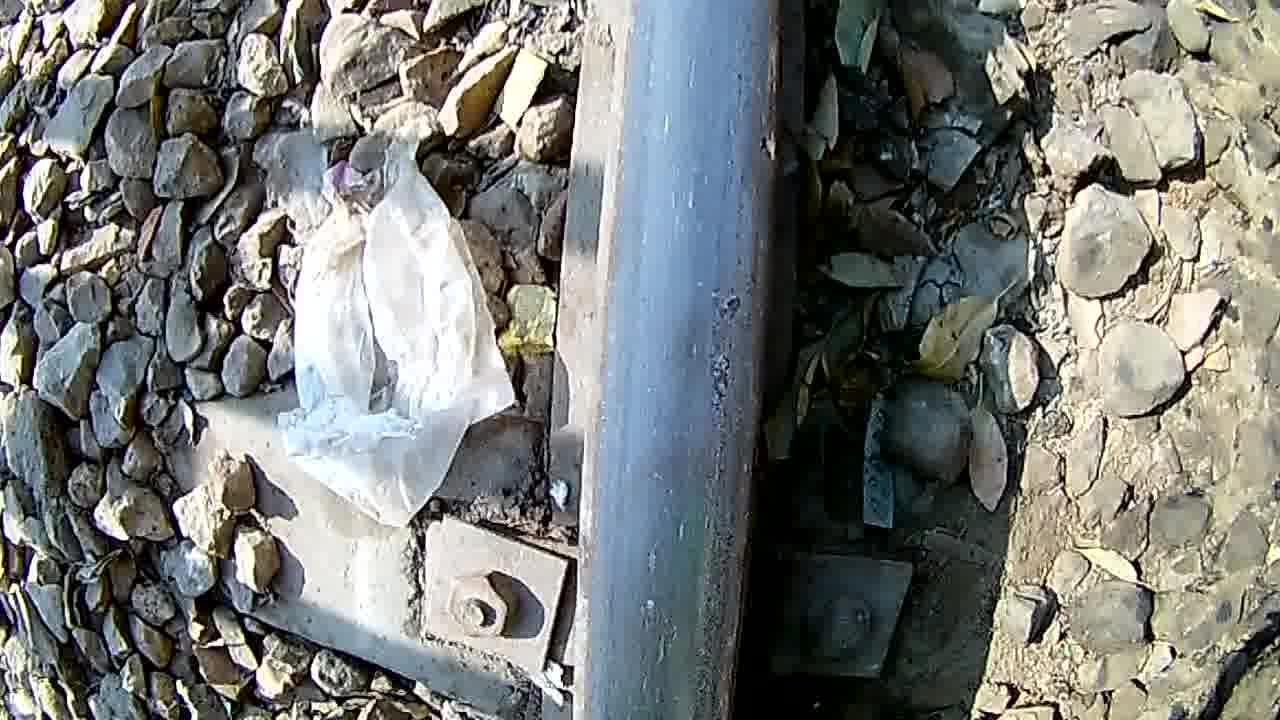crack: (587, 2, 782, 720)
